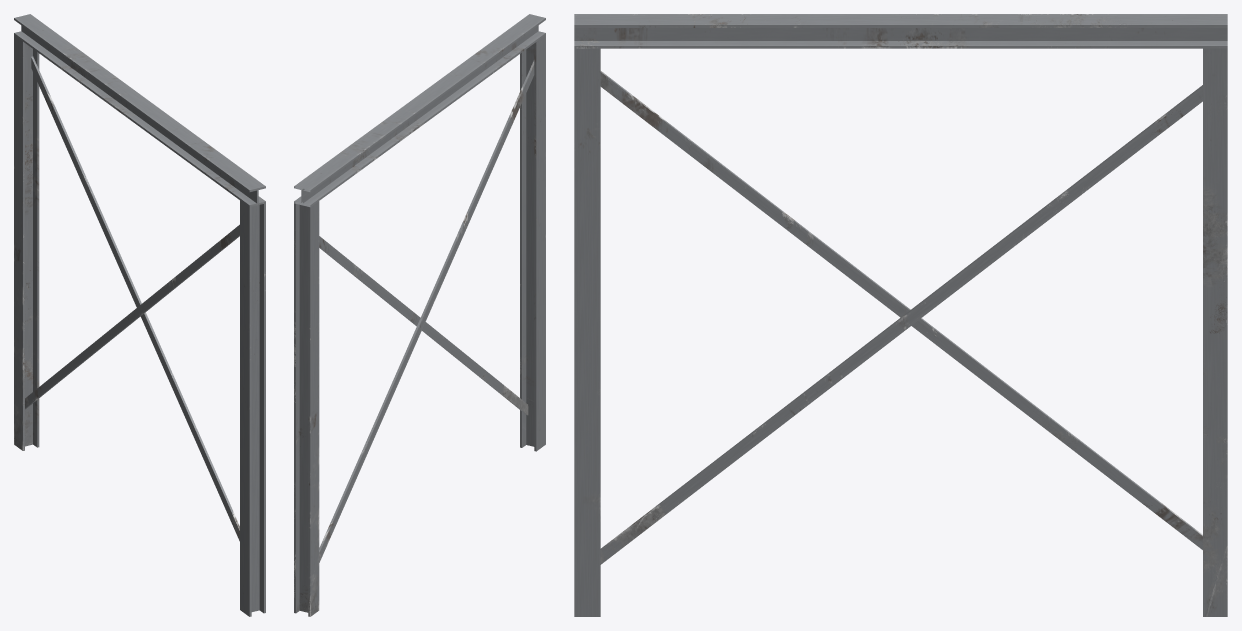
Rendered from Supporting_Pillar_02_new.FBX.
The picture shows the model from 3 angles, left to right: view 1: azimuth 30°, elevation 25°; view 2: azimuth 150°, elevation 25°; view 3: azimuth 270°, elevation 25°; orthographic projection. The views are drawn at different scales.
Visible parts, largest first — view 1: Support_Pillar_02; view 2: Support_Pillar_02; view 3: Support_Pillar_02.
Boxes of the visible parts, box(x1,y1,x2,y2) form: Support_Pillar_02: box(14, 14, 265, 616); Support_Pillar_02: box(294, 14, 545, 616); Support_Pillar_02: box(574, 14, 1227, 616).
Bounding box in the file's own units: 20 × 500 × 500.
